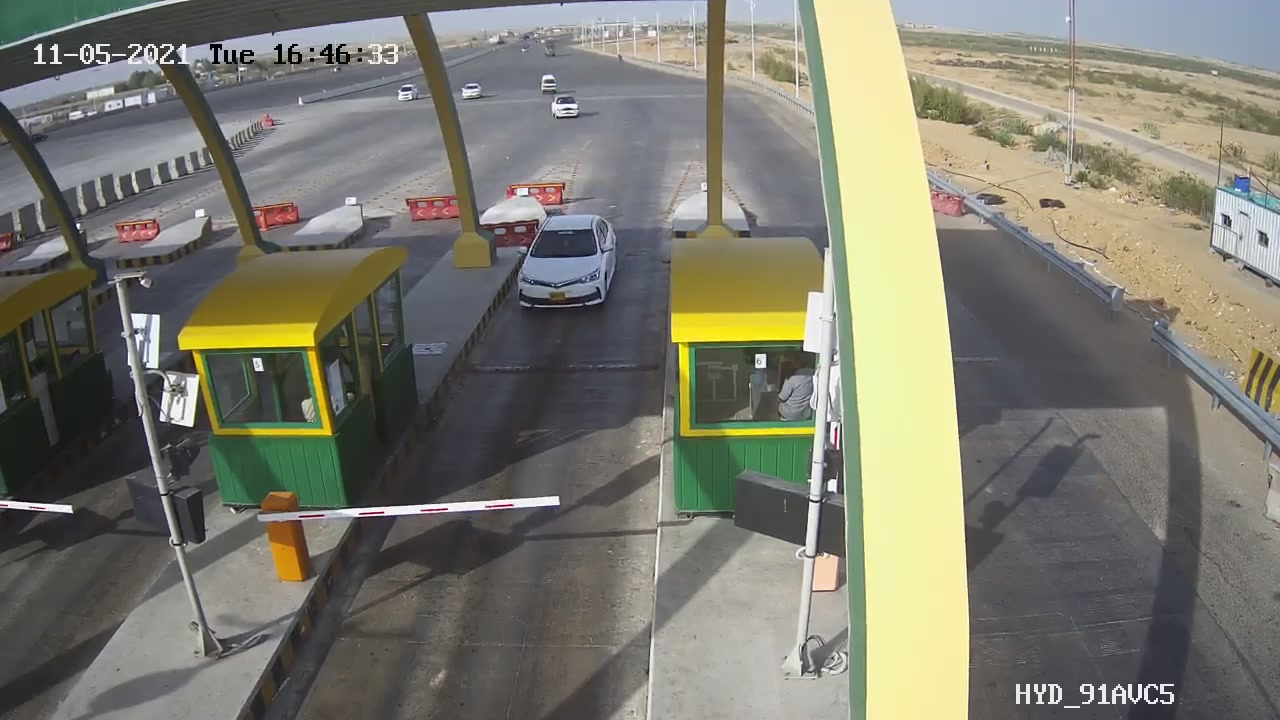F1: (496, 202, 637, 331)
